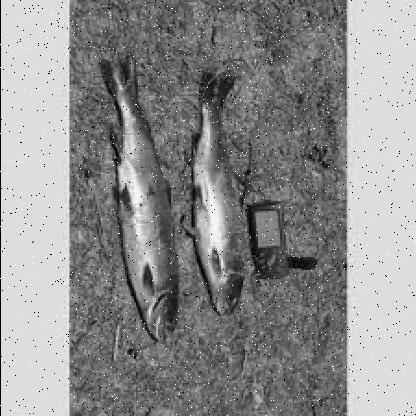fish: (102, 51, 182, 338), (188, 68, 250, 314)
